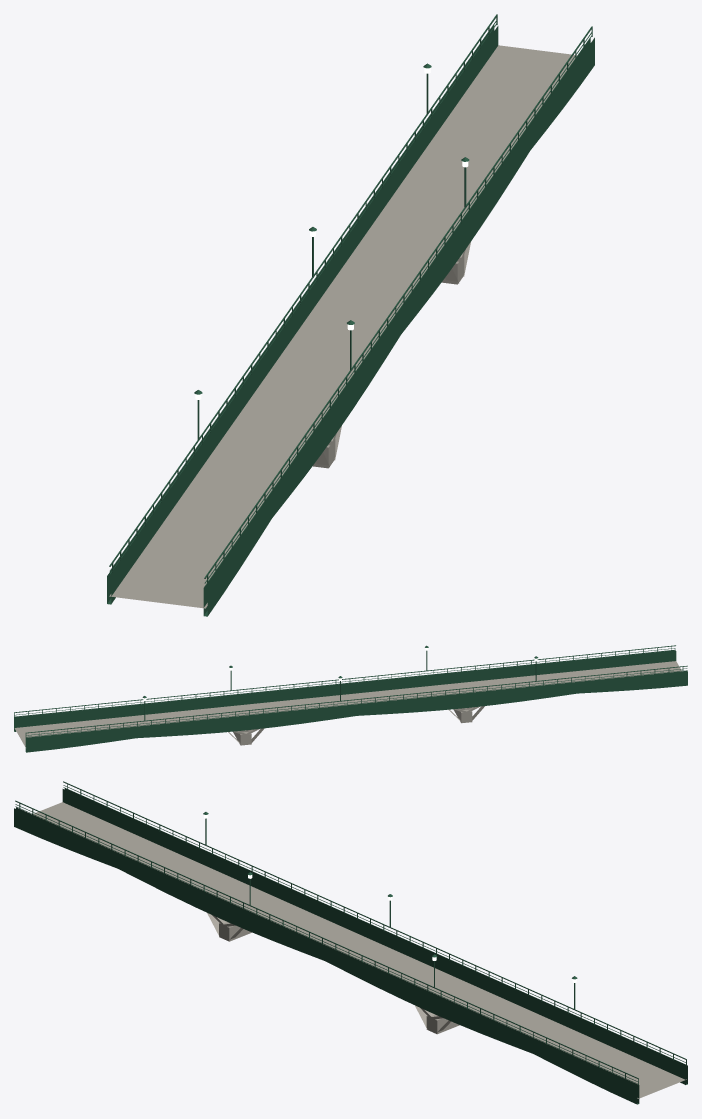
The model's file is footbridge-hi.glb.
The picture shows the model from 3 angles, top to bottom: view 1: azimuth 30°, elevation 25°; view 2: azimuth 150°, elevation 25°; view 3: azimuth 270°, elevation 25°; orthographic projection. The views are drawn at different scales.
Visible parts, largest first — view 1: lm-footbridge; view 2: lm-footbridge; view 3: lm-footbridge.
Part boxes in pixels (box(x1,y1,x2,y2)): lm-footbridge: box(107, 14, 594, 616); lm-footbridge: box(14, 645, 687, 752); lm-footbridge: box(14, 781, 687, 1104).
Size of the model in its own units: 73.72 by 9.22 by 70.42.
